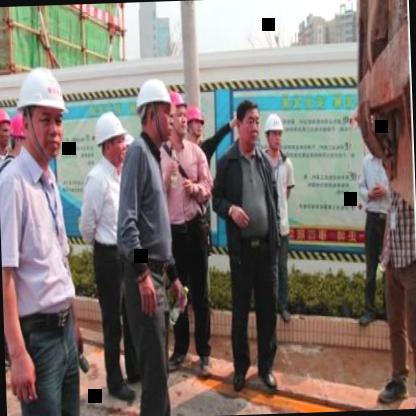head: (235, 96, 262, 148)
helmet: (18, 66, 68, 164), (135, 76, 173, 147), (92, 111, 129, 164), (166, 92, 190, 142), (7, 112, 29, 157), (264, 109, 286, 150), (184, 106, 206, 140), (0, 107, 11, 150)
